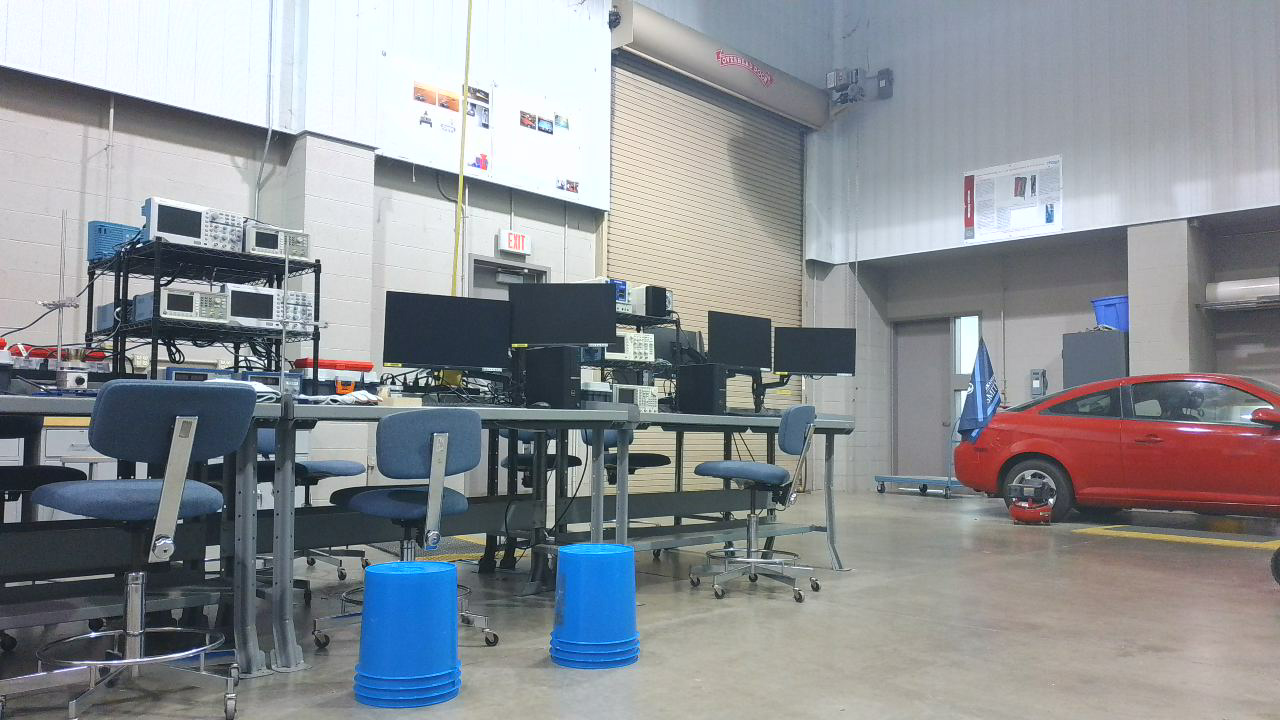blue_bucket: (355, 563, 472, 716), (552, 545, 648, 677)
